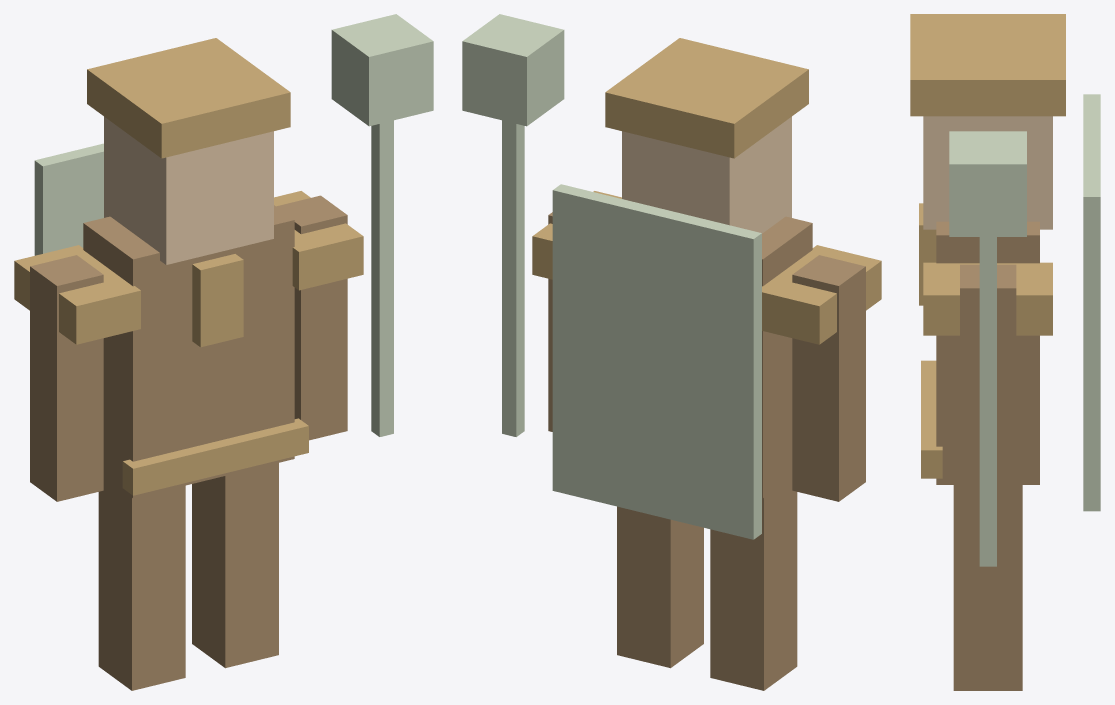
Rendered from 01_sable_tideforged_herald_under_consonant.glb.
The picture shows the model from 3 angles, left to right: view 1: azimuth 30°, elevation 25°; view 2: azimuth 150°, elevation 25°; view 3: azimuth 270°, elevation 25°; orthographic projection. The views are drawn at different scales.
Parts seen in each view (by area): view 1: Sable Tideforged, Herald under Consonant; view 2: Sable Tideforged, Herald under Consonant; view 3: Sable Tideforged, Herald under Consonant.
Part boxes in pixels (x1,y1,x2,y2): Sable Tideforged, Herald under Consonant: (14, 14, 433, 690); Sable Tideforged, Herald under Consonant: (462, 14, 881, 690); Sable Tideforged, Herald under Consonant: (910, 14, 1100, 690).
Size of the model in its own units: 1.12 by 1.67 by 0.476.
